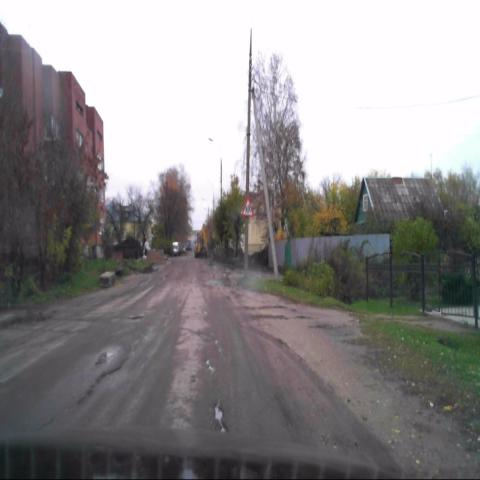1_23: (242, 198, 252, 216)
